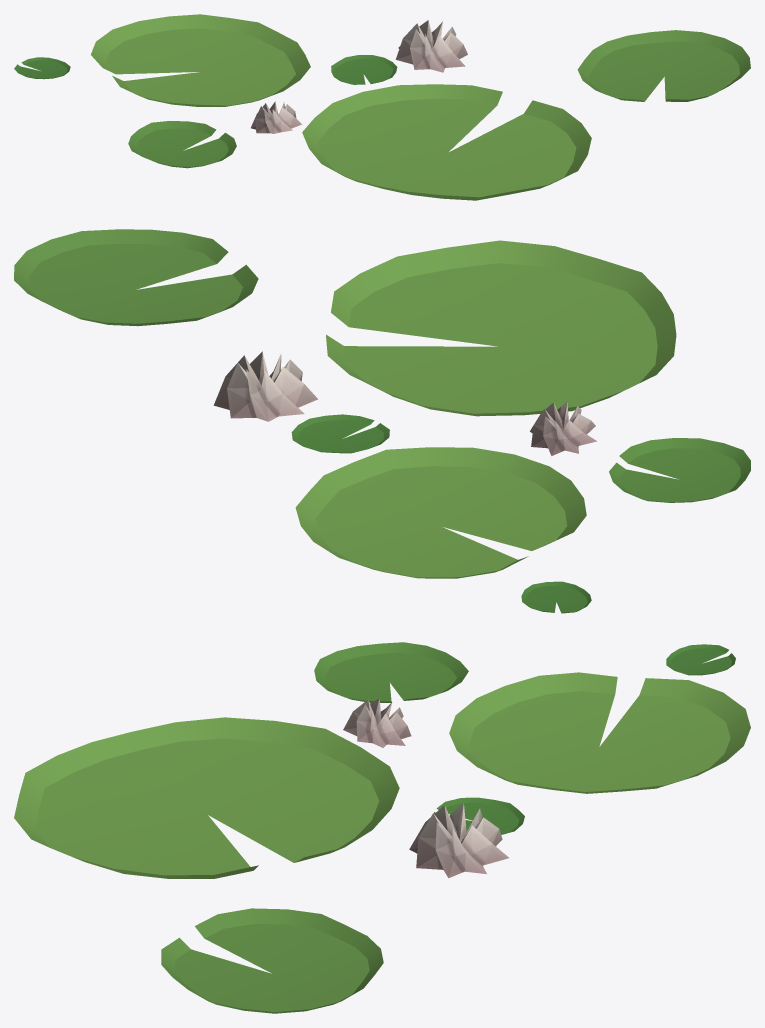
Rendered from lily_pad_2.glb.
3 views of the same model, one above another, from view 1: azimuth 30°, elevation 25°; view 2: azimuth 150°, elevation 25°; view 3: azimuth 270°, elevation 25° (orthographic). The views are drawn at different scales.
Visible parts, largest first — view 1: lily_pad_2; view 2: lily_pad_2; view 3: lily_pad_2.
Part boxes in pixels (x1,y1,x2,y2): lily_pad_2: [14, 14, 750, 200]; lily_pad_2: [14, 229, 750, 613]; lily_pad_2: [14, 642, 750, 1013].
Size of the model in its own units: 1.8 by 0.12 by 1.5.
2 materials, 2 textured.
